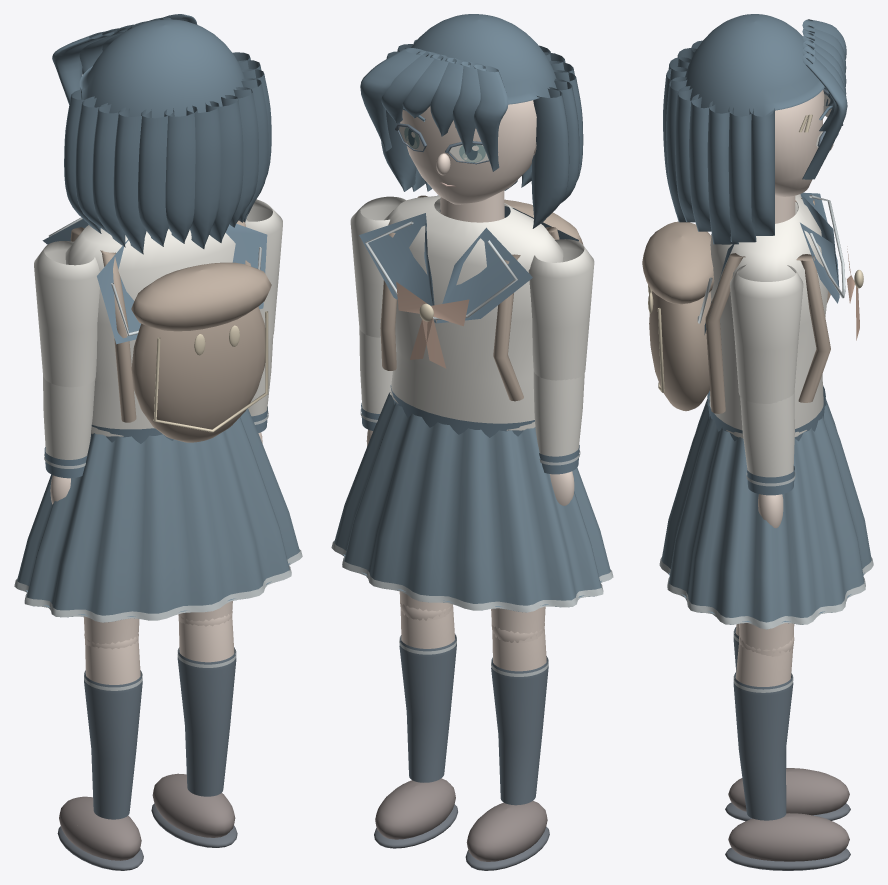
The model's file is schoolgirl.gltf.
3 views of the same model, side by side, from view 1: azimuth 30°, elevation 25°; view 2: azimuth 150°, elevation 25°; view 3: azimuth 270°, elevation 25° (orthographic). The views are drawn at different scales.
Visible parts, largest first — view 1: Skirt, Schoolgirl, Hair, Head, LeftKnee, RightKnee, LeftArm, LeftElbow, RightArm, LeftLeg, RightElbow; view 2: Skirt, Schoolgirl, Head, LeftKnee, RightKnee, Hair, LeftArm, LeftElbow, RightArm, Ribbon, RightElbow, LeftLeg (+3 smaller); view 3: Skirt, Schoolgirl, Head, Hair, RightKnee, RightArm, RightElbow, LeftKnee, RightLeg, Ribbon.
Boxes of the visible parts, left/top/right/bottom form: Skirt: left=14, top=408, right=302, bottom=622; Schoolgirl: left=42, top=217, right=271, bottom=443; Hair: left=64, top=52, right=271, bottom=254; Head: left=52, top=14, right=244, bottom=118; LeftKnee: left=57, top=634, right=143, bottom=870; RightKnee: left=151, top=611, right=237, bottom=847; LeftArm: left=34, top=241, right=99, bottom=387; LeftElbow: left=43, top=375, right=95, bottom=504; RightArm: left=245, top=199, right=282, bottom=339; LeftLeg: left=83, top=616, right=139, bottom=647; RightElbow: left=248, top=336, right=273, bottom=443; Skirt: left=331, top=392, right=613, bottom=612; Schoolgirl: left=359, top=190, right=583, bottom=437; Head: left=360, top=14, right=556, bottom=204; LeftKnee: left=465, top=623, right=549, bottom=870; RightKnee: left=374, top=601, right=457, bottom=848; Hair: left=381, top=39, right=583, bottom=228; LeftArm: left=528, top=239, right=594, bottom=380; LeftElbow: left=533, top=371, right=584, bottom=505; RightArm: left=350, top=196, right=406, bottom=337; Ribbon: left=396, top=282, right=469, bottom=368; RightElbow: left=359, top=328, right=392, bottom=446; LeftLeg: left=491, top=606, right=545, bottom=642; Skirt: left=659, top=398, right=873, bottom=629; Schoolgirl: left=642, top=192, right=845, bottom=441; Head: left=685, top=14, right=847, bottom=196; Hair: left=663, top=40, right=774, bottom=244; RightKnee: left=725, top=635, right=850, bottom=870; RightArm: left=729, top=265, right=803, bottom=403; RightElbow: left=740, top=392, right=795, bottom=528; LeftKnee: left=725, top=624, right=850, bottom=821; RightLeg: left=739, top=623, right=794, bottom=656; Ribbon: left=847, top=246, right=863, bottom=340.
Bounding box in the file's own units: 0.5706 × 1.69 × 0.4336.
